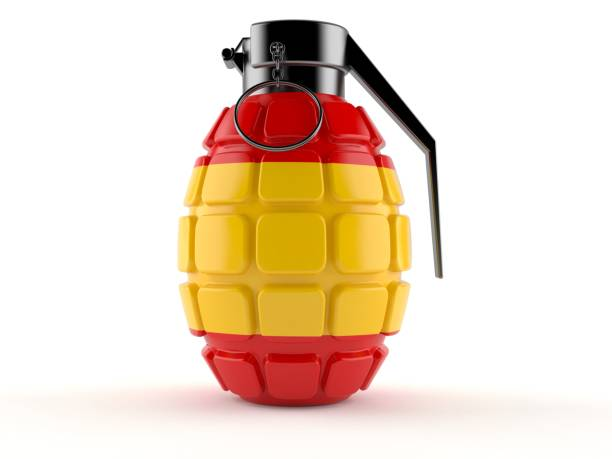e1: (176, 19, 443, 404)
